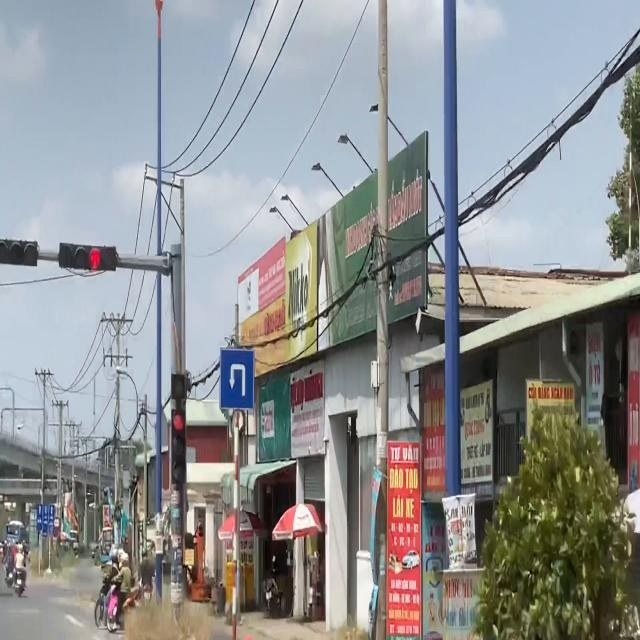bien_chi_dan: (219, 346, 255, 410)
